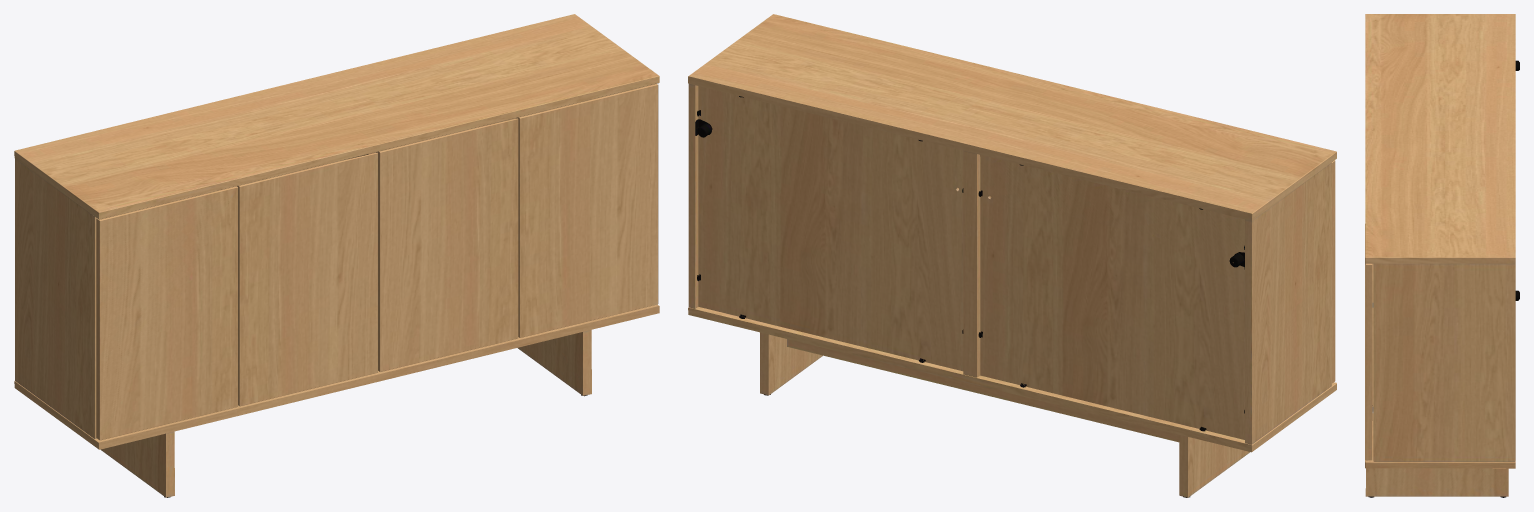
The model's file is stockholm_2025_kredens_10586604.glb.
3 views of the same model, side by side, from view 1: azimuth 30°, elevation 25°; view 2: azimuth 150°, elevation 25°; view 3: azimuth 270°, elevation 25° (orthographic). The views are drawn at different scales.
Parts seen in each view (by area): view 1: stockholm_2025_kredens_10586604; view 2: stockholm_2025_kredens_10586604; view 3: stockholm_2025_kredens_10586604.
Part boxes in pixels (box(x1,y1,x2,y2)): stockholm_2025_kredens_10586604: box(14, 14, 659, 497); stockholm_2025_kredens_10586604: box(688, 14, 1336, 497); stockholm_2025_kredens_10586604: box(1365, 14, 1519, 497).
Size of the model in its own units: 1.61 by 0.832 by 0.4317.
1 material, 1 textured.
